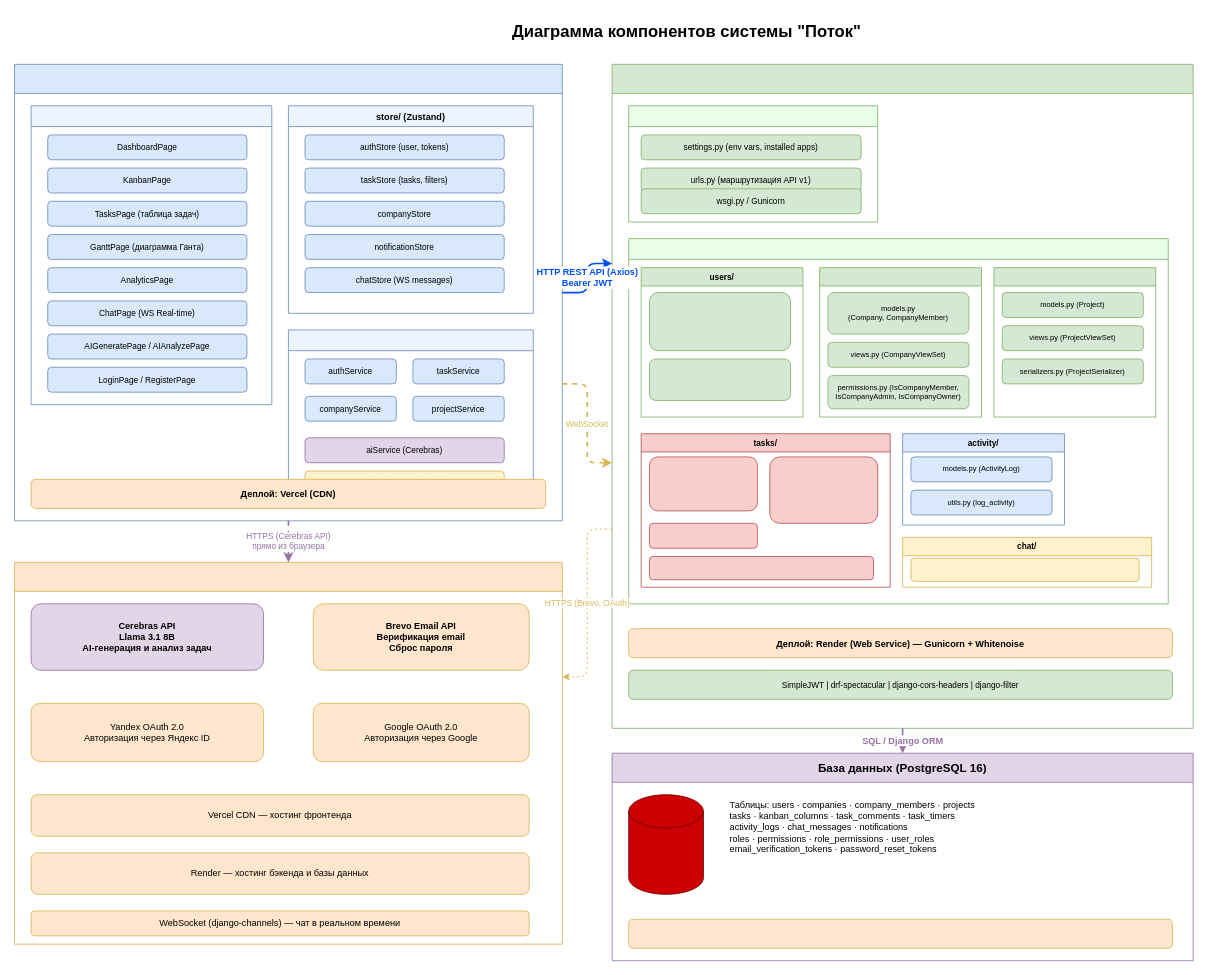
Image size: 1208x975. Some labels were removed from this diagram. The shapes that lost their labels are listed below. From the top down, each one's box as (x1, y1, x2, y2) in pixels, then its label:
(628, 105, 878, 222): config/
(30, 105, 272, 405): pages/
(14, 63, 562, 521): Frontend (React 19 + Vite)
(649, 292, 791, 351): models.py (User, Role, Permission, UserRole, RolePermission, VerificationToken)
(819, 267, 981, 417): companies/
(993, 267, 1156, 417): core/
(649, 358, 791, 400): views.py (UserViewSet, RegisterView, Auth views)
(611, 63, 1193, 728): Backend (Django 6 + DRF)
(288, 329, 533, 504): api/ (Axios services)
(628, 238, 1168, 604): apps/
(649, 456, 757, 511): models.py (Task, KanbanColumn, TaskComment, TaskTimer)
(769, 456, 878, 523): views.py (TaskViewSet, KanbanColumnViewSet, AIAnalysisView, AIGenerateTasksView)
(649, 522, 757, 548): filters.py (TaskFilter)
(649, 556, 874, 580): permissions.py (CanManageTask)
(910, 557, 1139, 581): models.py (ChatMessage, Notification)
(14, 561, 562, 944): Внешние сервисы
(628, 918, 1172, 948): Render Managed PostgreSQL (Production)
